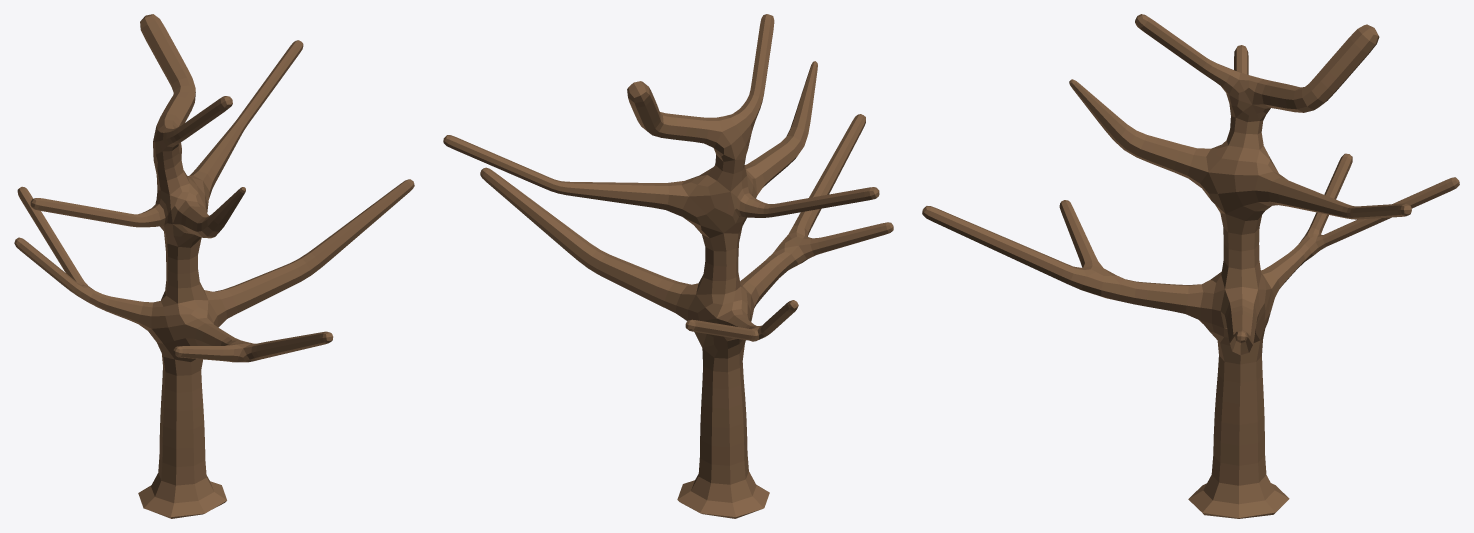
Rendered from low poly tree two.fbx.
The picture shows the model from 3 angles, left to right: view 1: azimuth 30°, elevation 25°; view 2: azimuth 150°, elevation 25°; view 3: azimuth 270°, elevation 25°; orthographic projection. The views are drawn at different scales.
Parts seen in each view (by area): view 1: tree; view 2: tree; view 3: tree.
Part boxes in pixels (box(x1,y1,x2,y2)): tree: box(14, 14, 414, 518); tree: box(443, 14, 893, 518); tree: box(922, 14, 1459, 518).
Size of the model in its own units: 886 by 973 by 962.
